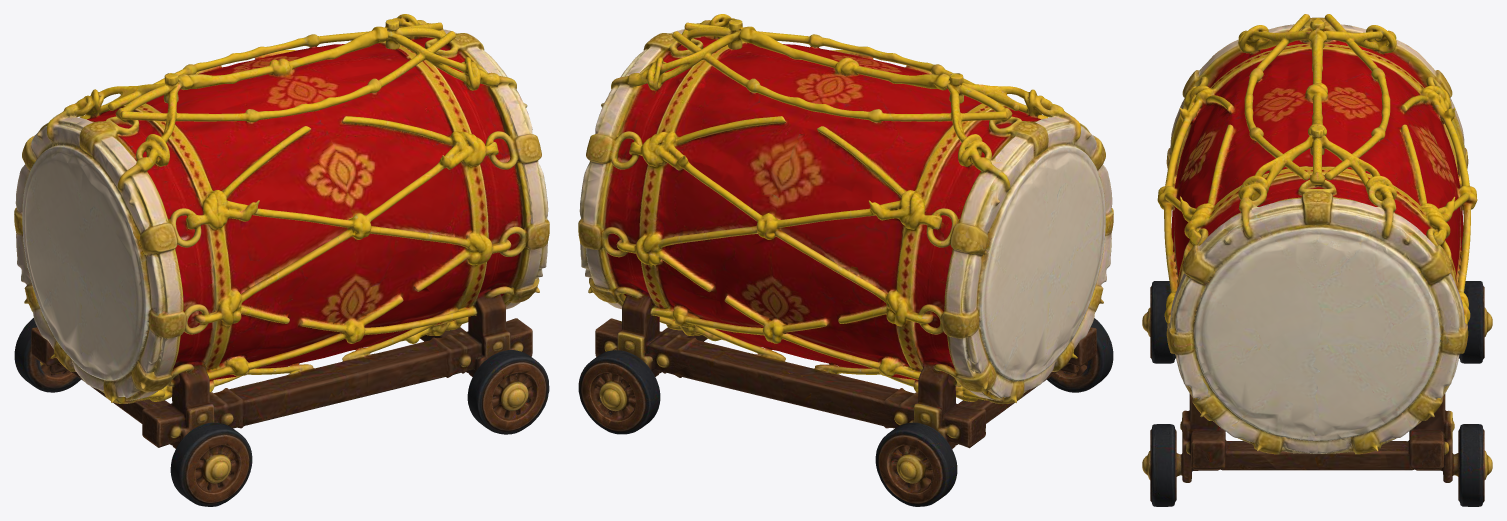
The model's file is festival_drum_on_wheels_mobile.glb.
3 renders of one model, left to right at view 1: azimuth 30°, elevation 25°; view 2: azimuth 150°, elevation 25°; view 3: azimuth 270°, elevation 25°, orthographic.
Size of the model in its own units: 1.9 by 1.61 by 1.44.
1 material, 1 textured.
